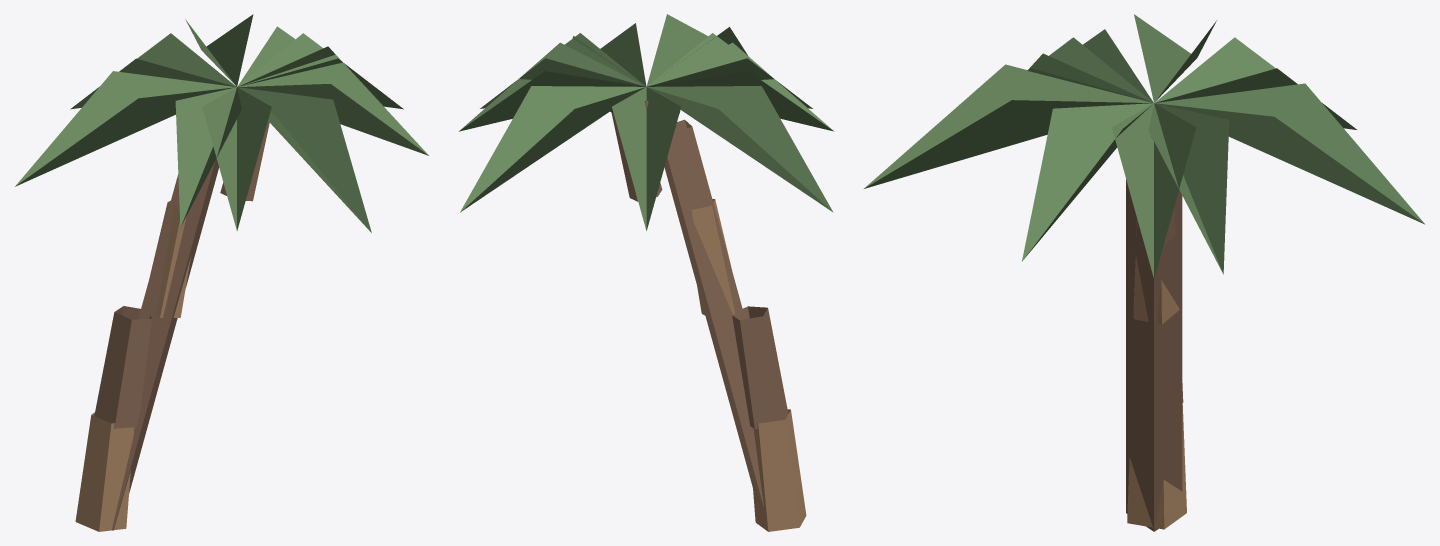
File: tree_palm.glb
3 views of the same model, side by side, from view 1: azimuth 30°, elevation 25°; view 2: azimuth 150°, elevation 25°; view 3: azimuth 270°, elevation 25° (orthographic). The views are drawn at different scales.
Visible parts, largest first — view 1: frond3, far, frond5, frond6, trunk0, trunk1, far_frond2, frond4, frond2, far_frond0, frond1, trunk2 (+2 smaller); view 2: far, frond1, frond3, trunk0, trunk1, frond0, frond4, far_frond1, frond2, frond5, far_frond2, trunk2 (+3 smaller); view 3: far, frond1, frond5, frond6, far_frond0, frond0, far_frond1, frond3, frond4, trunk0, far_frond2, trunk2.
Part boxes in pixels (x1,y1,x2,y2): frond3: (15,71,236,186); far: (111,158,218,530); frond5: (238,87,371,232); frond6: (237,54,428,155); trunk0: (75,412,134,531); trunk1: (94,306,151,428); far_frond2: (202,87,271,230); frond4: (175,87,241,227); frond2: (70,33,236,109); far_frond0: (238,33,403,109); frond1: (185,14,253,86); trunk2: (150,200,190,317); far: (664,119,763,507); frond1: (460,86,645,212); frond3: (647,86,833,212); trunk0: (752,409,806,531); trunk1: (732,306,788,429); frond0: (459,42,645,131); frond4: (647,42,833,131); far_frond1: (621,87,680,230); frond2: (612,87,665,230); frond5: (646,14,747,86); far_frond2: (647,33,812,108); trunk2: (691,199,735,318); far: (1126,179,1182,531); frond1: (1154,83,1424,224); frond5: (864,64,1153,188); frond6: (1022,103,1153,261); far_frond0: (1112,103,1196,278); frond0: (1148,103,1229,274); far_frond1: (1155,37,1356,129); frond3: (1134,14,1216,102); frond4: (1028,29,1153,102); trunk0: (1127,403,1186,529); far_frond2: (1028,37,1153,102); trunk2: (1133,254,1179,324).
Size of the model in its own units: 1.11 by 1.23 by 1.2.
